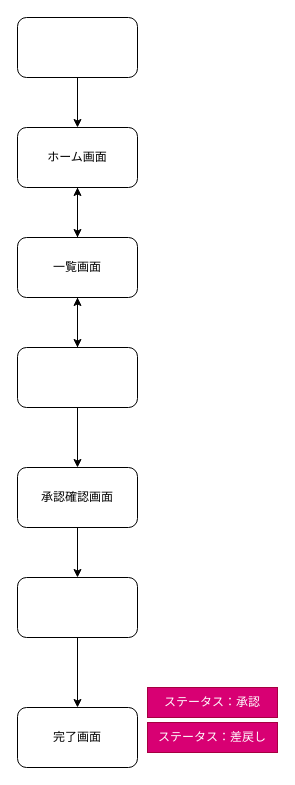
Some shapes in this 295 by 785 pixel diagram are drawn without their labels. Each missing label, with the box of its shape:
ログイン画面: (16, 16, 138, 78)
回答確認画面: (16, 576, 138, 638)
詳細画面: (16, 346, 138, 408)
